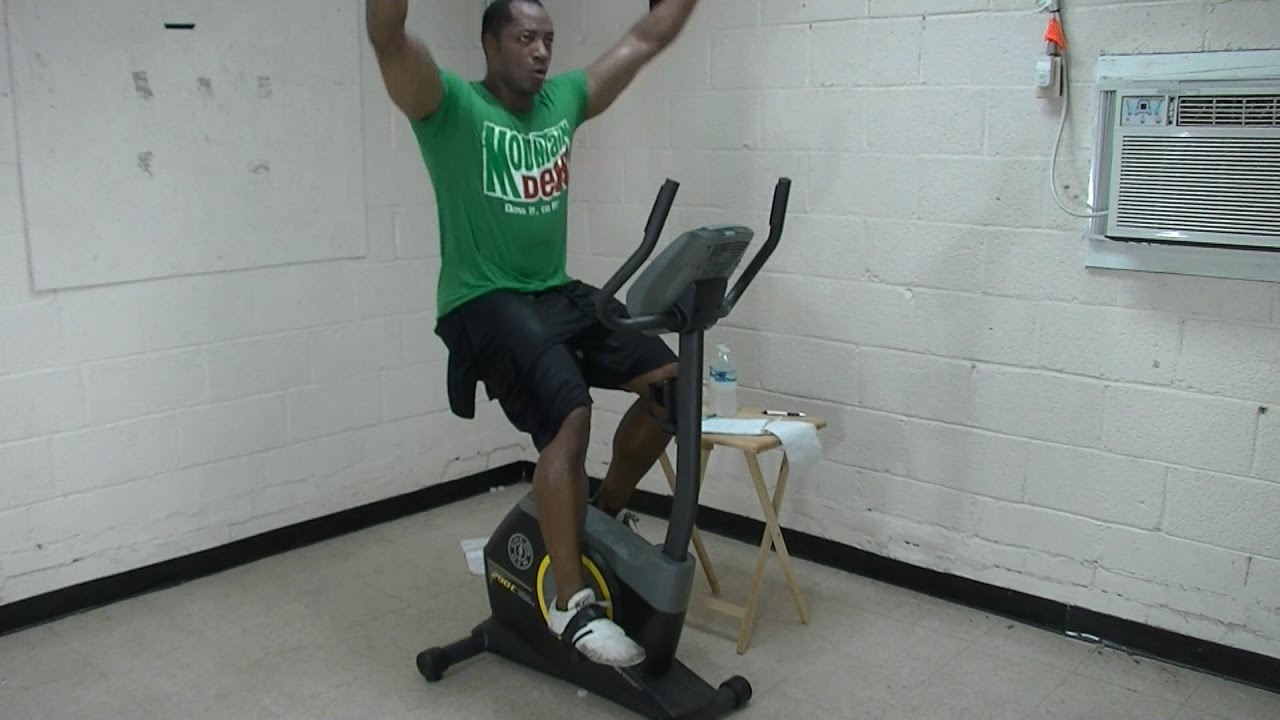gym_bike: (487, 188, 793, 716)
